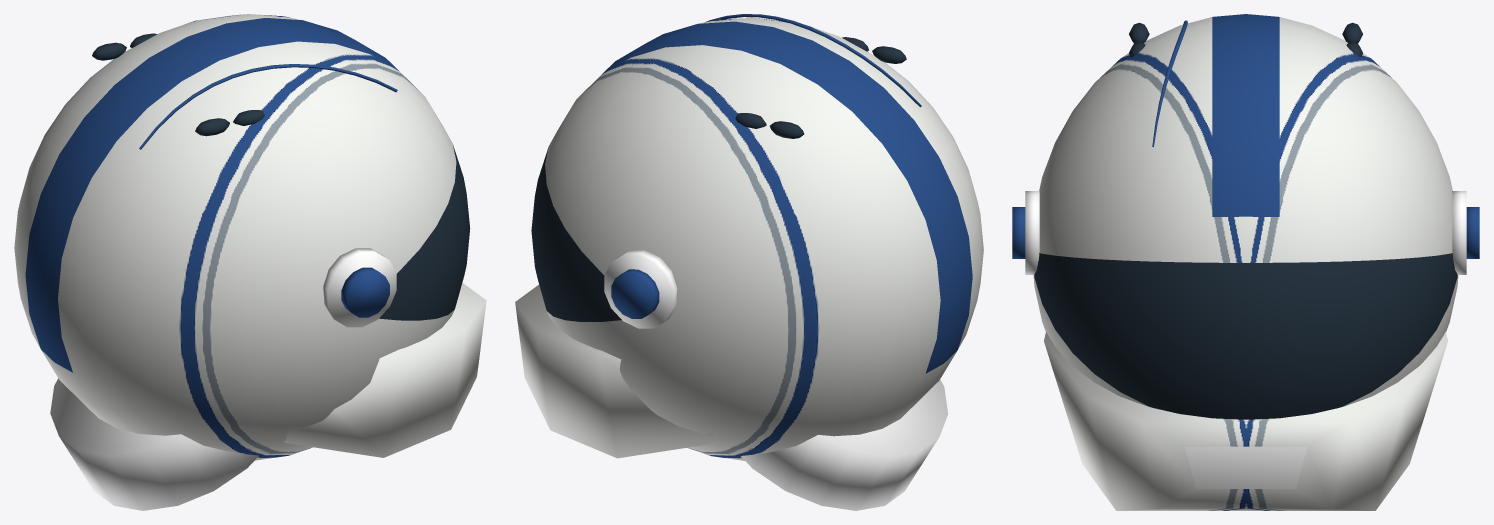
Rendered from Helmet_06_N_青艇・銀引.glb.
3 renders of one model, left to right at view 1: azimuth 30°, elevation 25°; view 2: azimuth 150°, elevation 25°; view 3: azimuth 270°, elevation 25°, orthographic. The views are drawn at different scales.
Visible parts, largest first — view 1: Helmet_06_N, Visor; view 2: Helmet_06_N, Visor; view 3: Helmet_06_N, Visor.
Boxes of the visible parts, x1,y1,x2,y2 form: Helmet_06_N: (14, 14, 486, 510); Visor: (92, 33, 470, 320); Helmet_06_N: (515, 14, 983, 510); Visor: (531, 37, 906, 321); Helmet_06_N: (1012, 14, 1479, 510); Visor: (1034, 22, 1457, 419).
Bounding box in the file's own units: 0.301 × 0.305 × 0.289.
3 materials, 3 textured.
